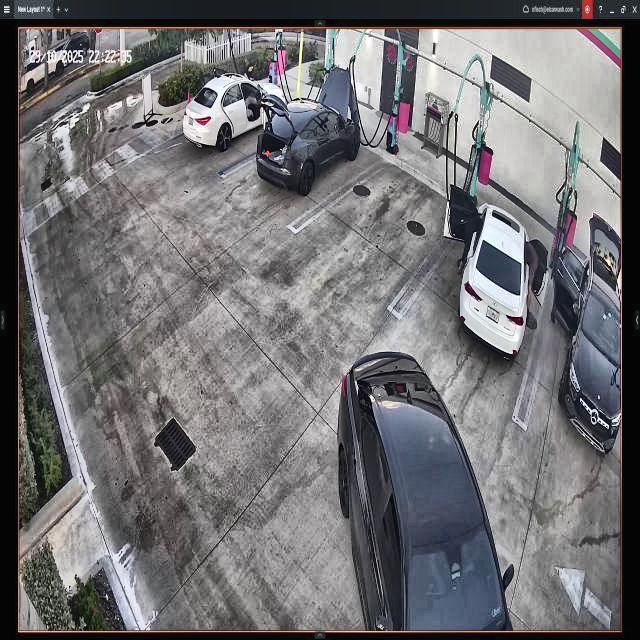Car: (329, 334, 515, 632), (445, 184, 548, 356), (256, 66, 360, 194), (183, 74, 287, 152)
